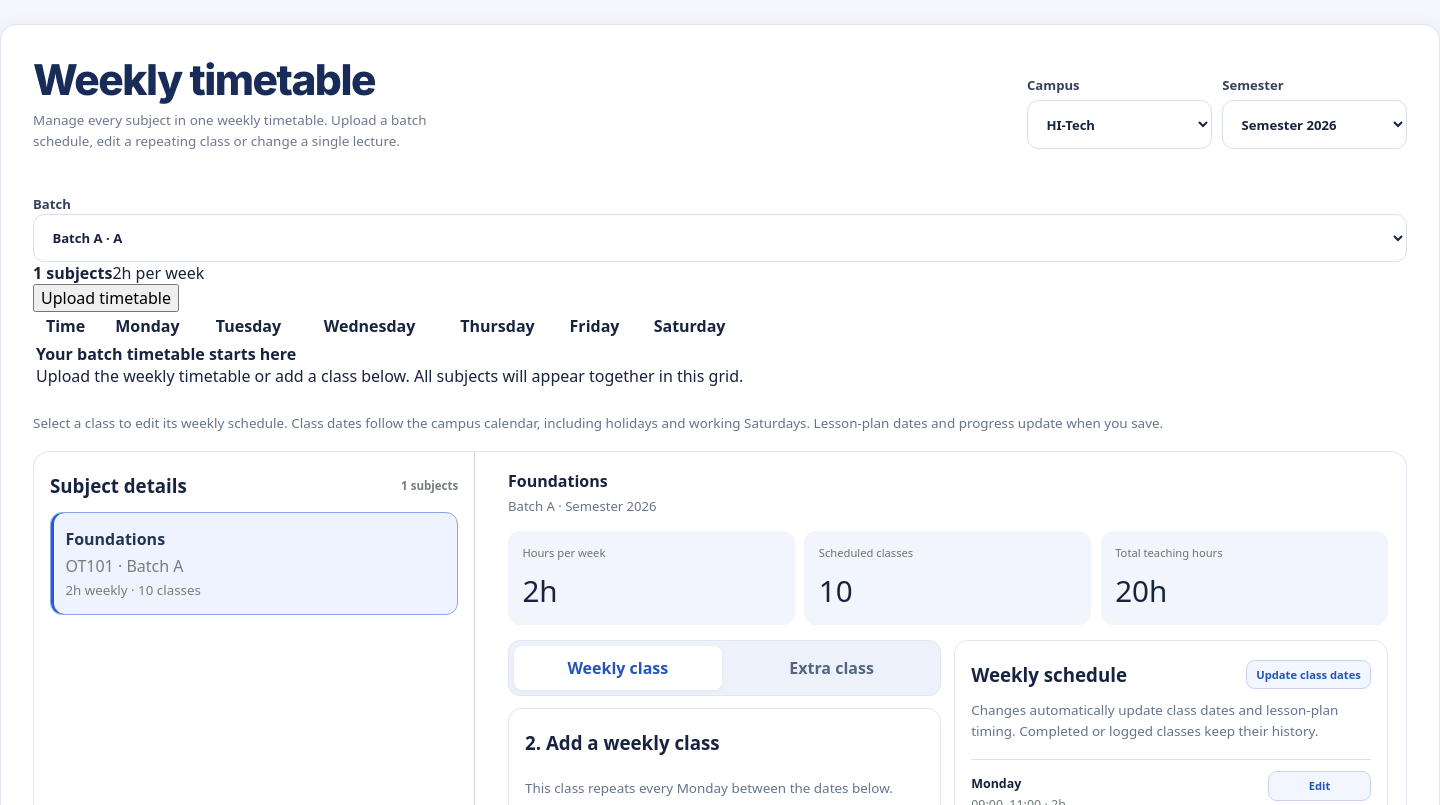
Test: TimetableSetup › offers a single extra class and refreshes the subject after saving
Click the button "Extra class" at (832, 668), box [728,646,935,690]
(page scrolled)
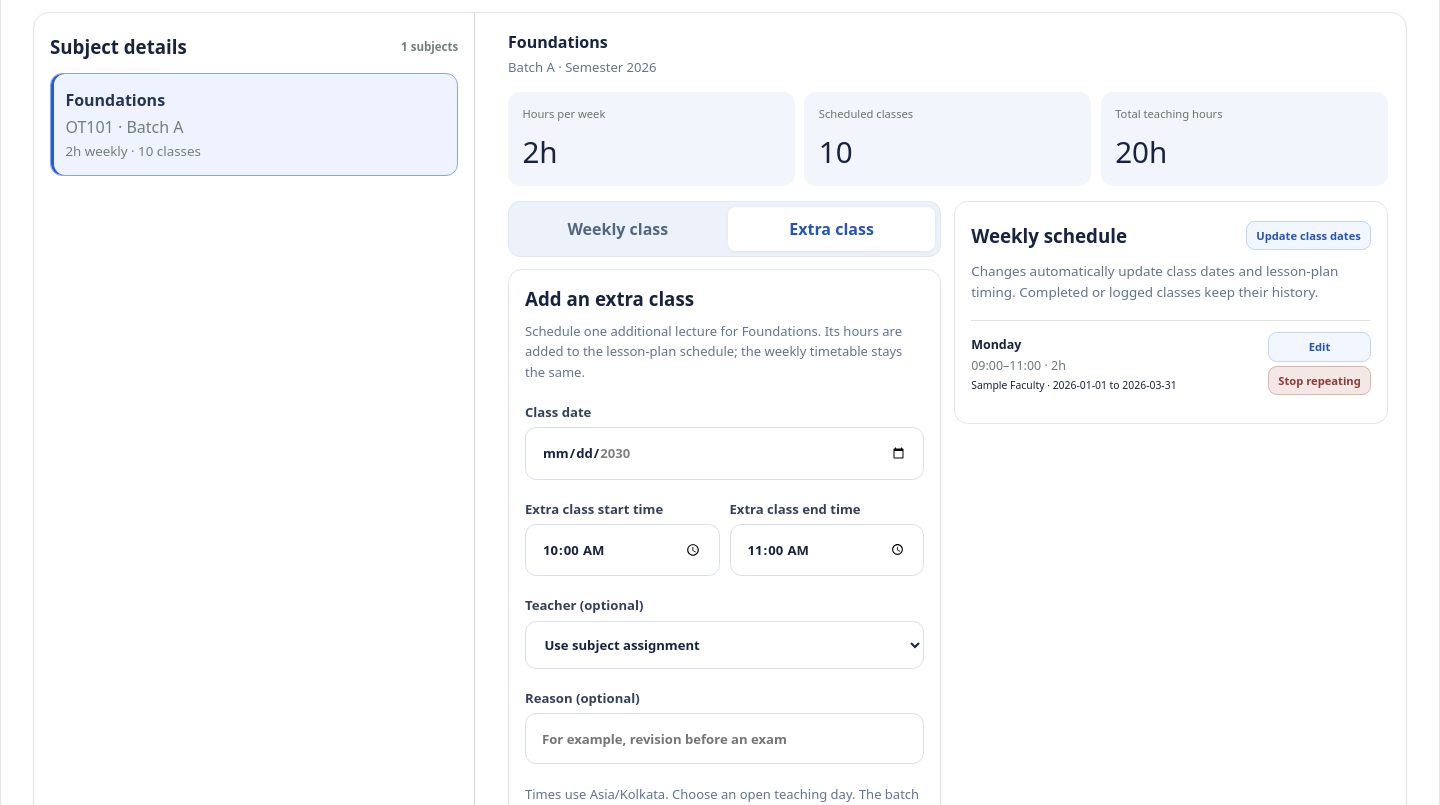
Type "2030-01-07" into the date field labelled "Class date" at (725, 454), box [525,427,924,480]
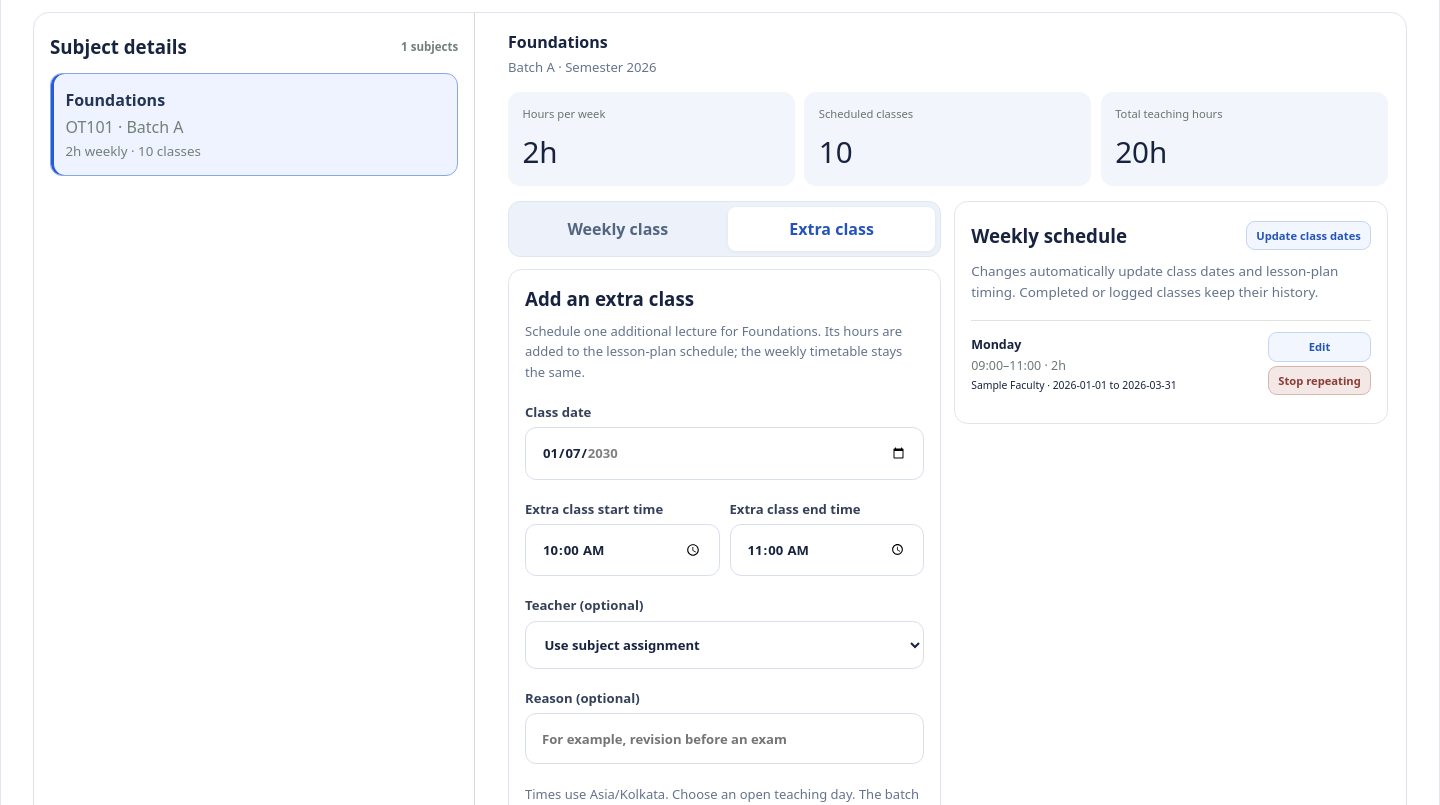
Replace the text in the time field labelled "Extra class start time" with "14:00" at (622, 550), box [525,524,720,576]
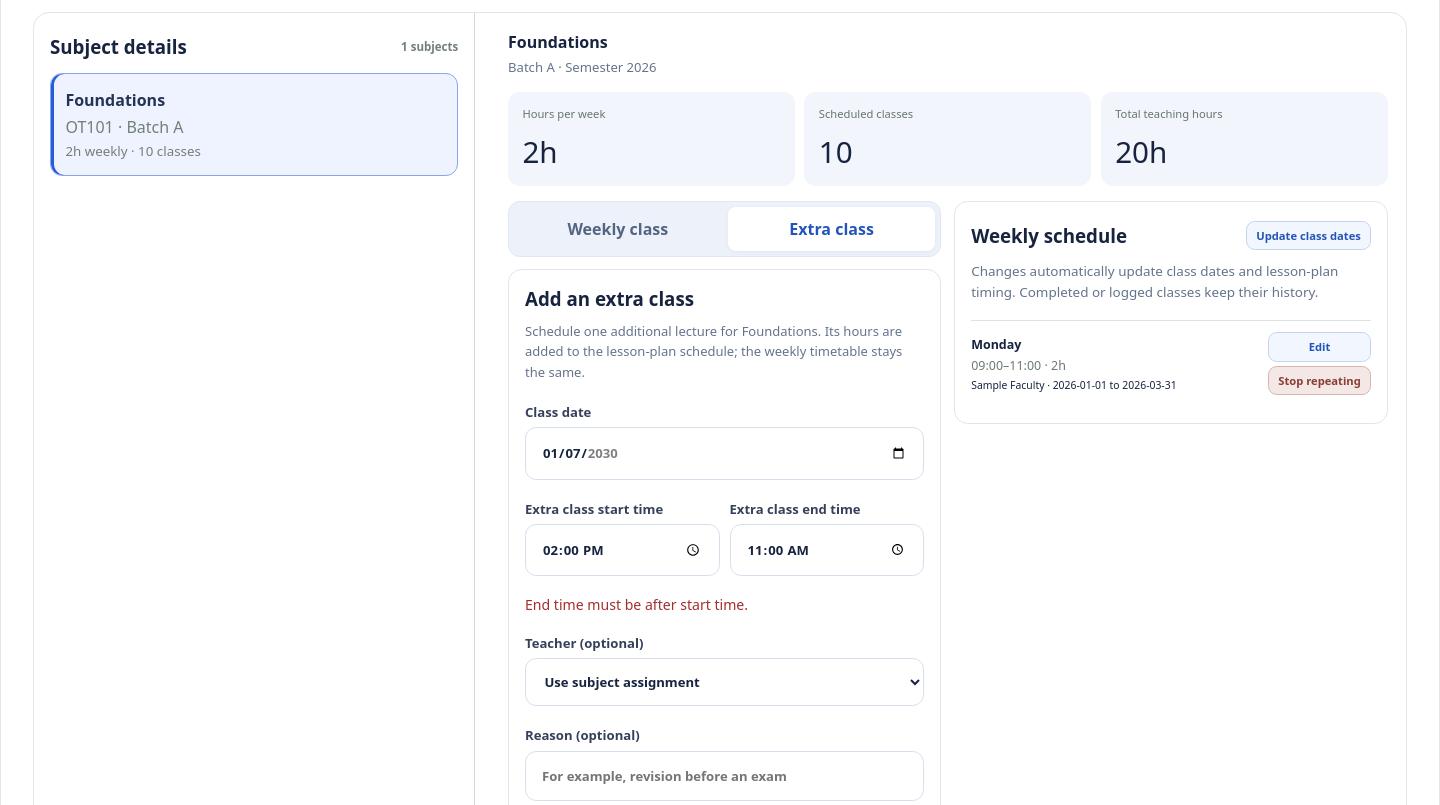
Replace the text in the time field labelled "Extra class end time" with "15:30" at (827, 550), box [730,524,924,576]
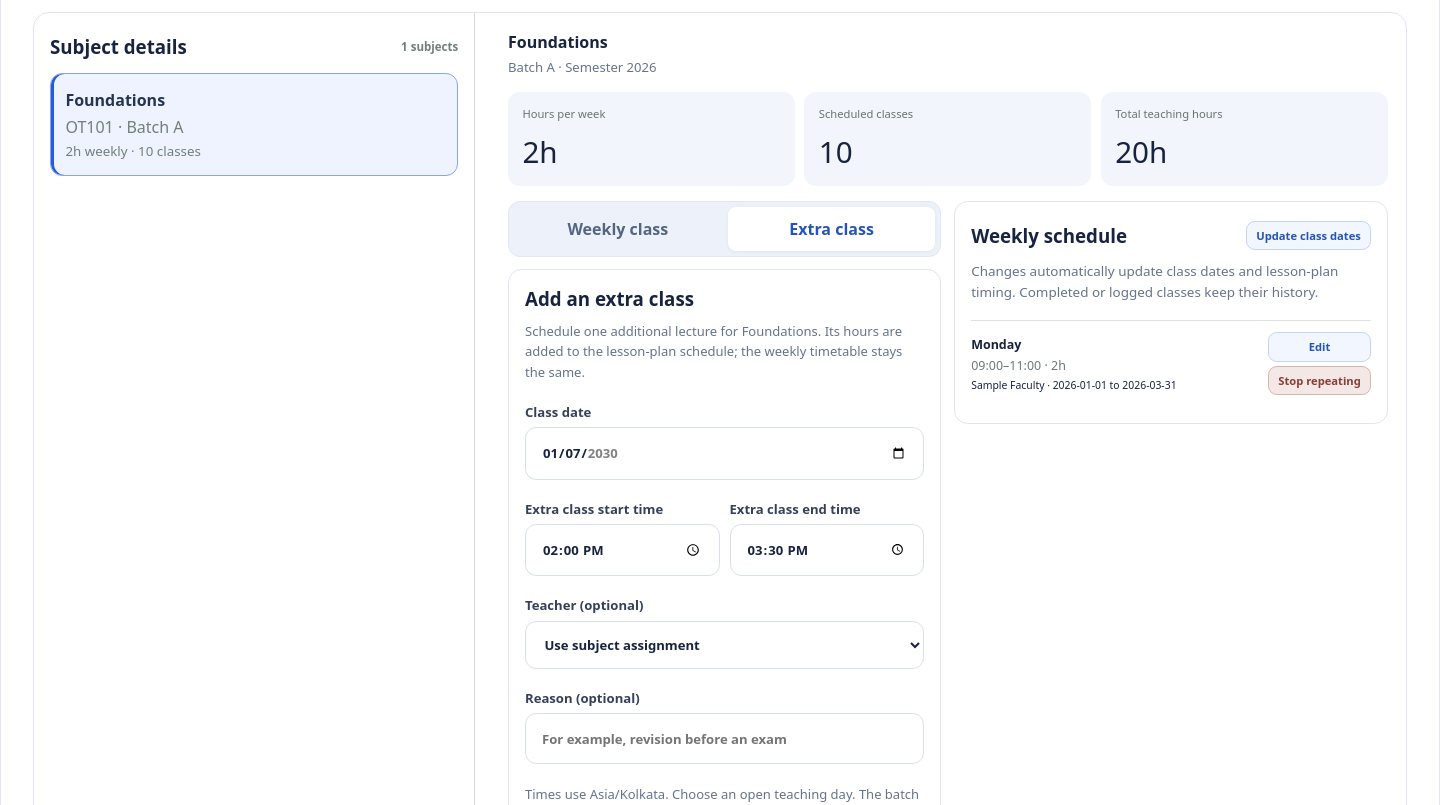
Type "Revision" into the field labelled "Reason (optional)" at (725, 739), box [525,713,924,764]
(page scrolled)
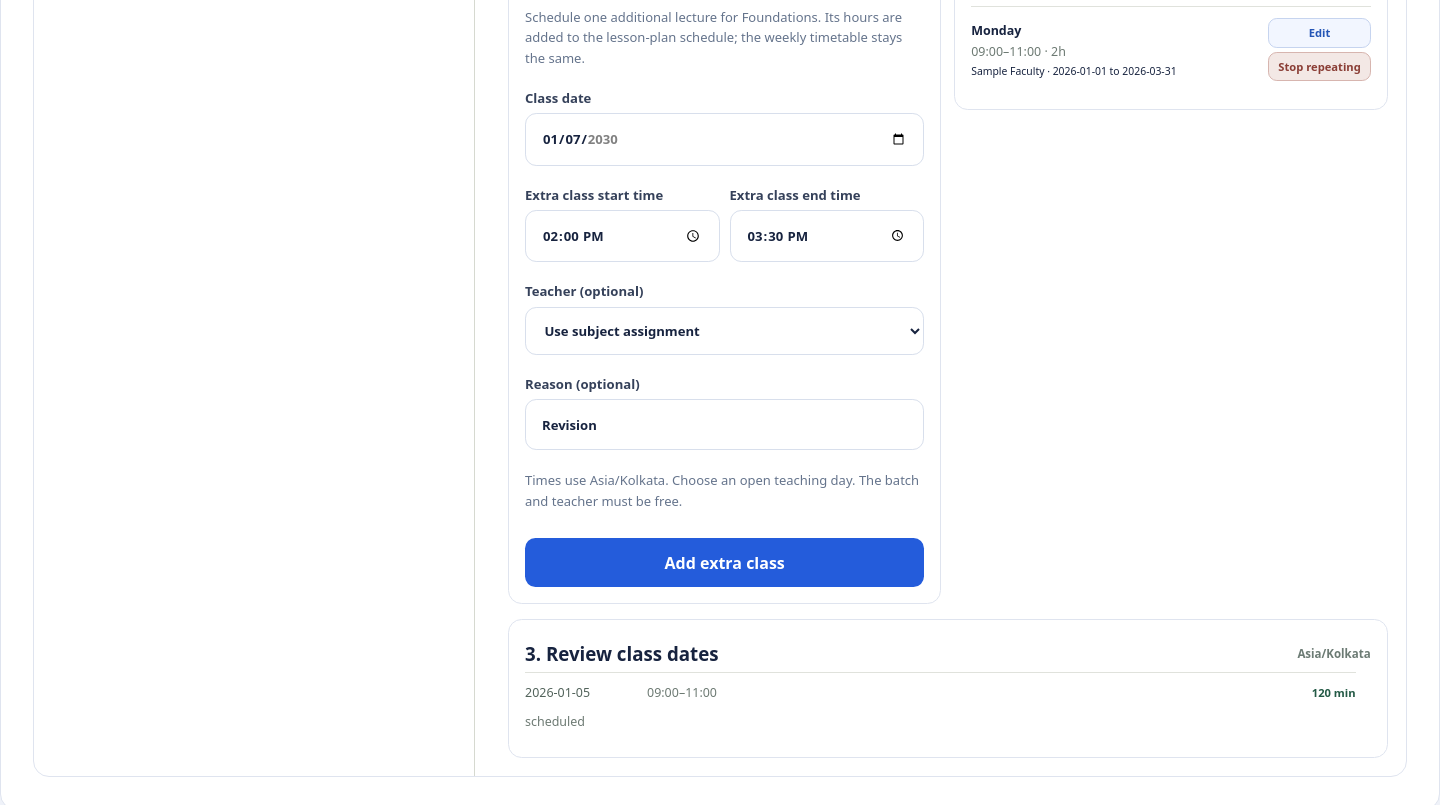
Click the button "Add extra class" at (725, 563), box [525,538,924,587]
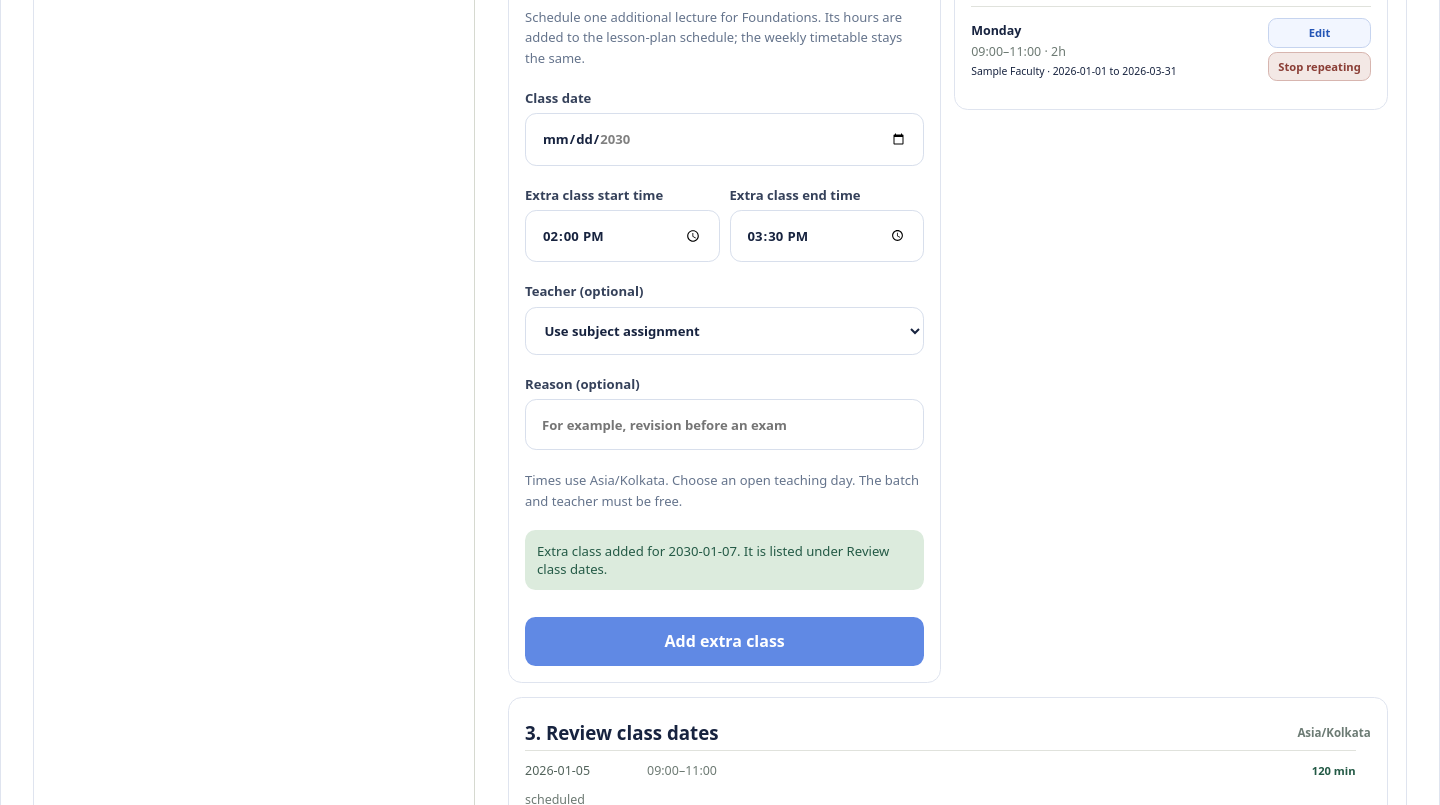
Expected: the message shows "Extra class added", [537,542,668,560]
